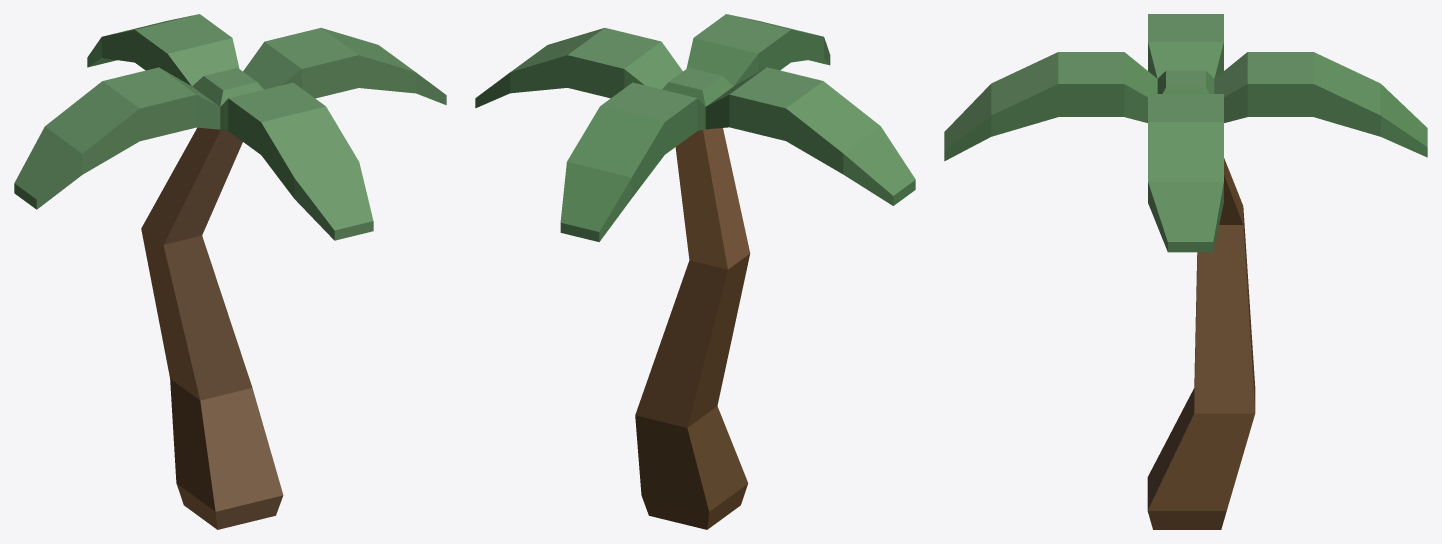
The model's file is palm_short.glb.
3 views of the same model, side by side, from view 1: azimuth 30°, elevation 25°; view 2: azimuth 150°, elevation 25°; view 3: azimuth 270°, elevation 25° (orthographic).
Parts seen in each view (by area): view 1: palm_short; view 2: palm_short; view 3: palm_short.
Part boxes in pixels (left/top/right/bottom): palm_short: left=14, top=14, right=446, bottom=529; palm_short: left=475, top=14, right=915, bottom=529; palm_short: left=944, top=14, right=1427, bottom=529.
Bounding box in the file's own units: 4.21 × 4.3 × 4.21.
